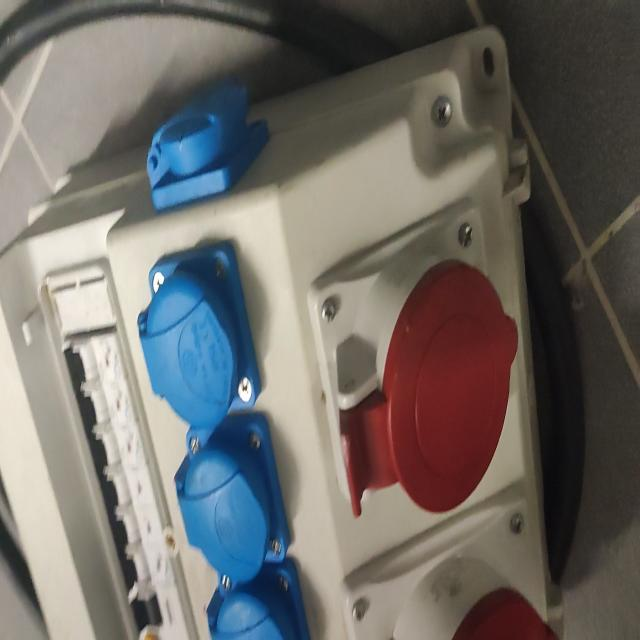400v socket: (307, 194, 521, 516), (340, 488, 560, 637)
house plug covered: (139, 248, 264, 428), (176, 415, 292, 580), (148, 85, 270, 208), (205, 559, 310, 640)
